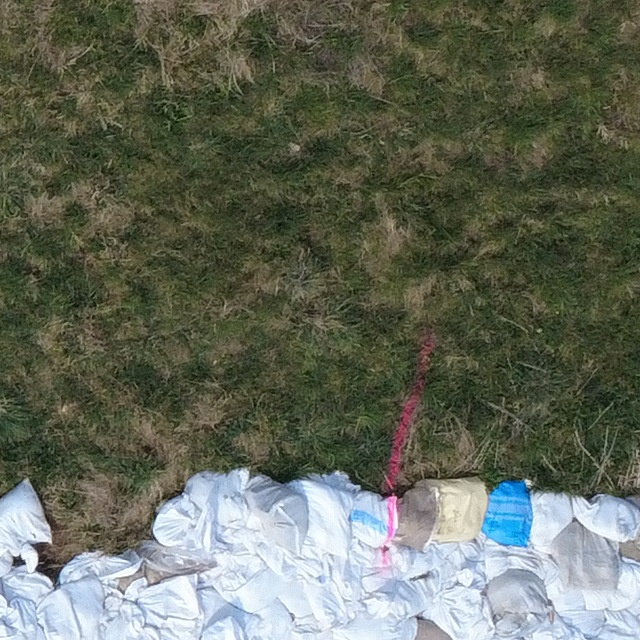sandbag: (0, 479, 52, 577), (245, 476, 309, 554), (553, 521, 622, 592), (416, 479, 488, 543), (296, 478, 352, 555), (37, 578, 104, 640), (482, 480, 532, 548), (571, 495, 640, 544), (487, 570, 552, 617), (137, 576, 200, 621), (350, 491, 397, 549), (395, 487, 437, 550), (59, 552, 141, 584), (530, 492, 574, 551), (217, 571, 278, 612), (152, 494, 197, 547)
